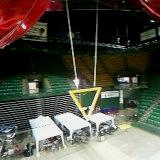Orange_Triangle_Gshape: (68, 87, 102, 122)
